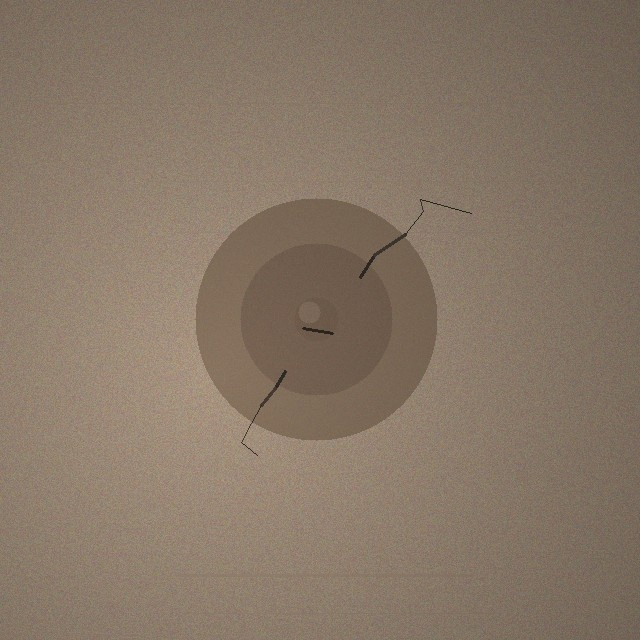crack: (195, 198, 437, 440)
